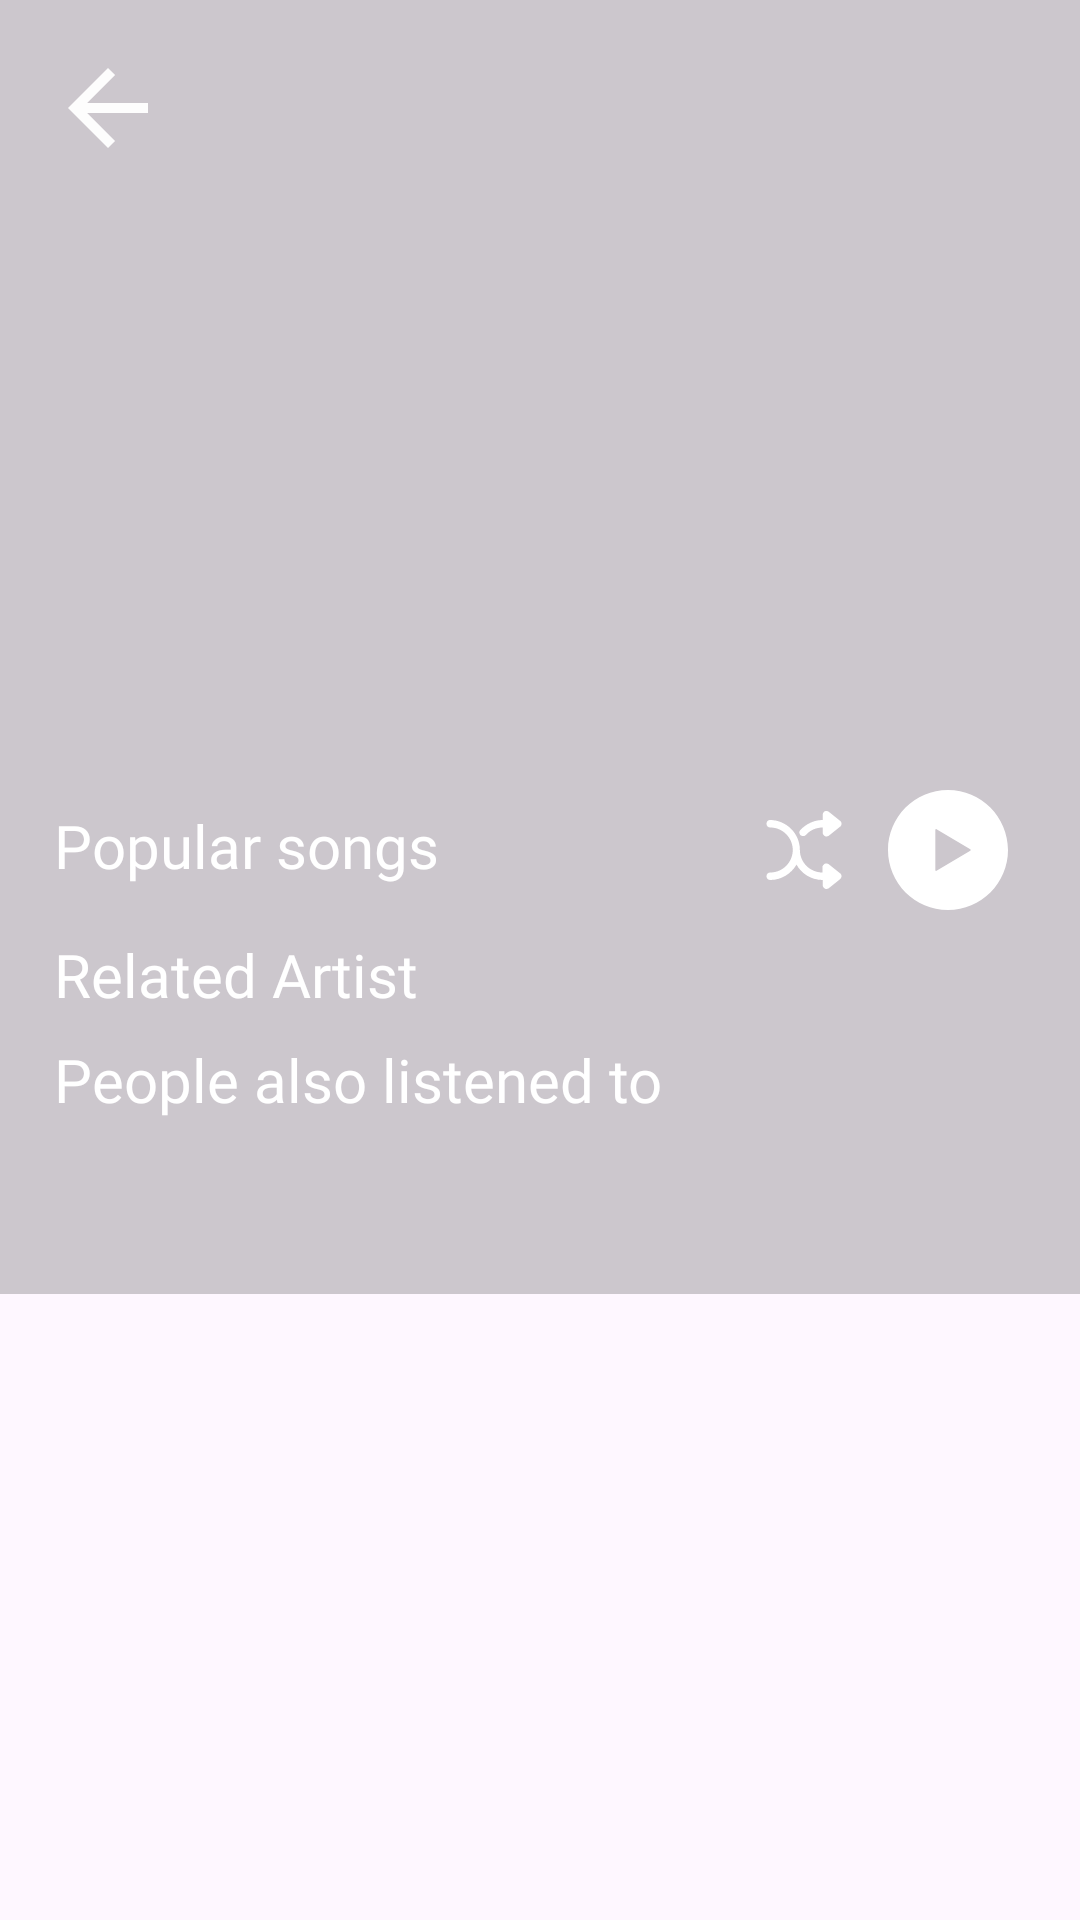

Point at icon controls on the screen. Image size 1080x1920, points as [x,y].
back arrow: [108,108]
play: [948,850]
shuffle: [804,850]
